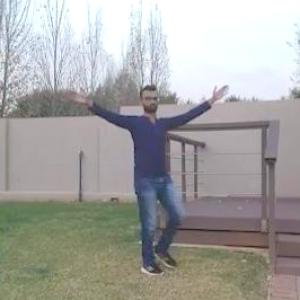takeoff: (54, 77, 226, 284)
